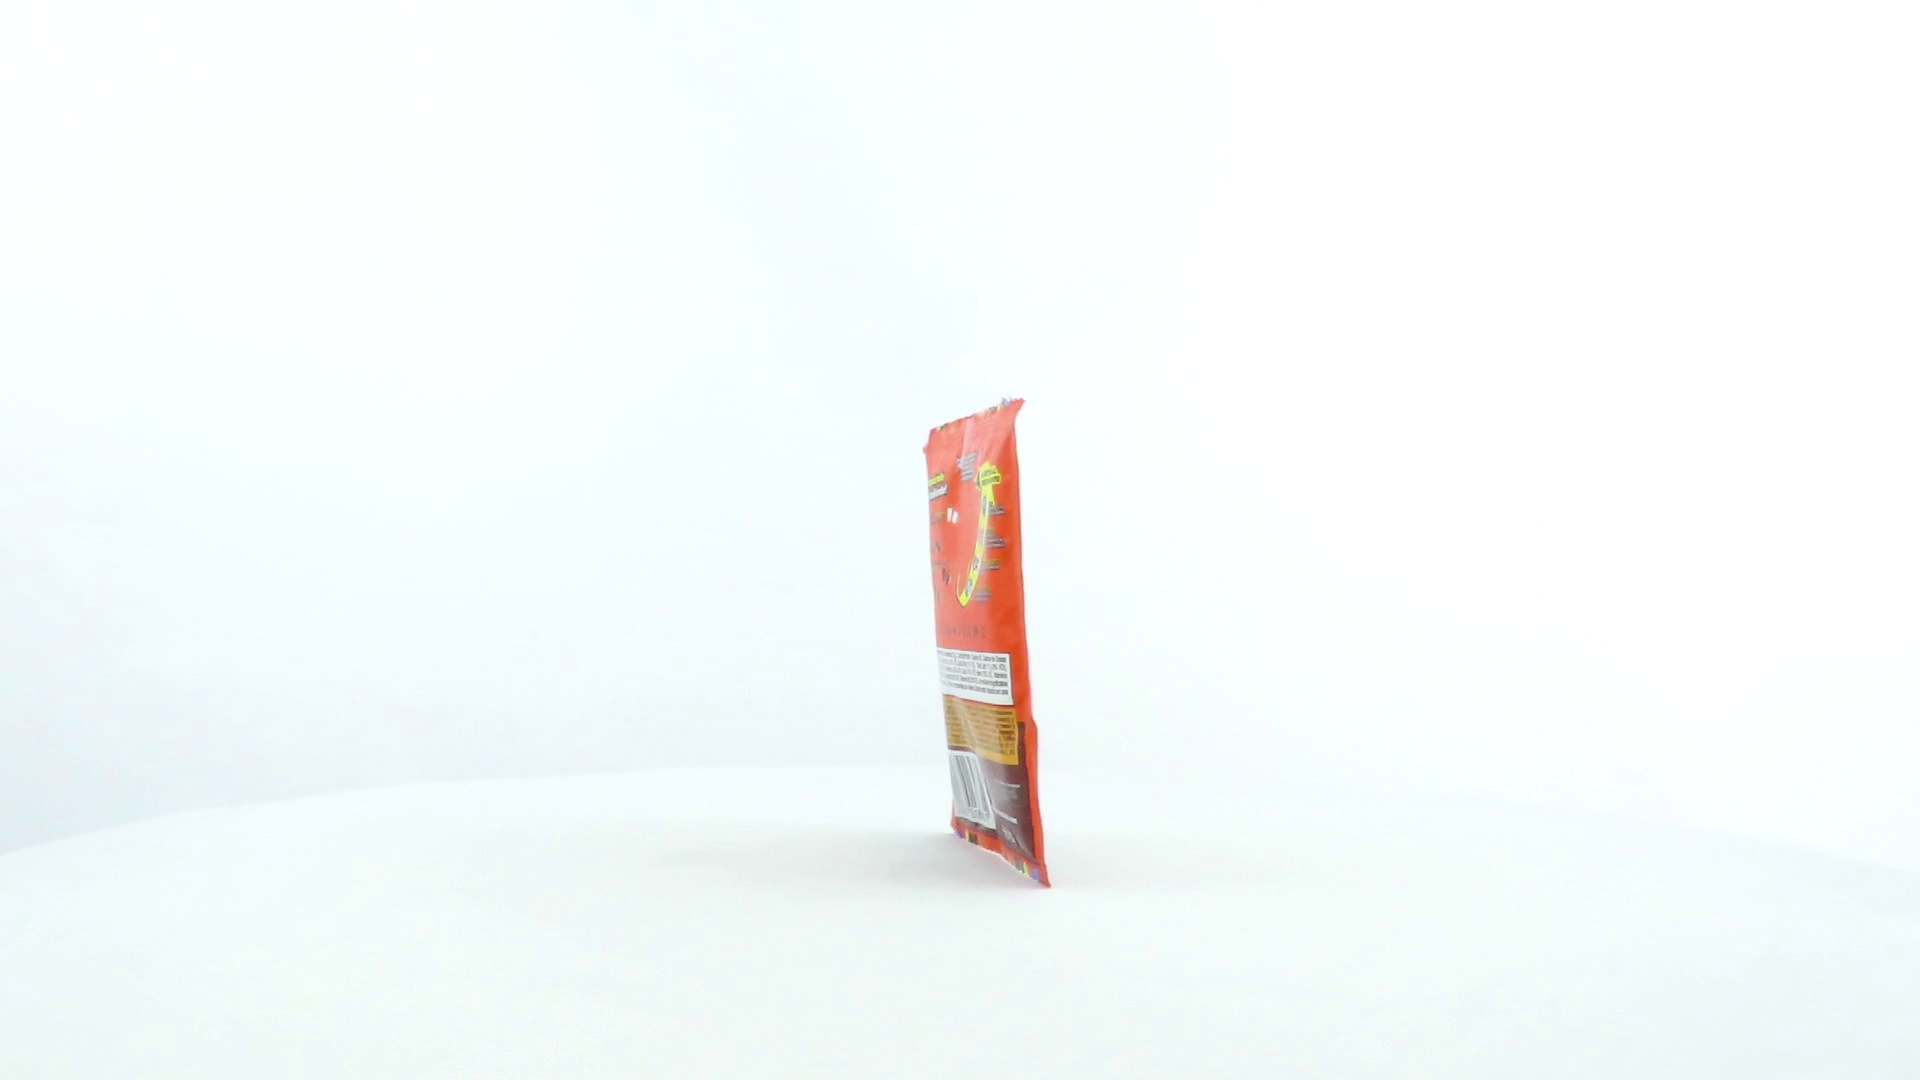COL0170103SOB02000: (905, 392, 1058, 895)
